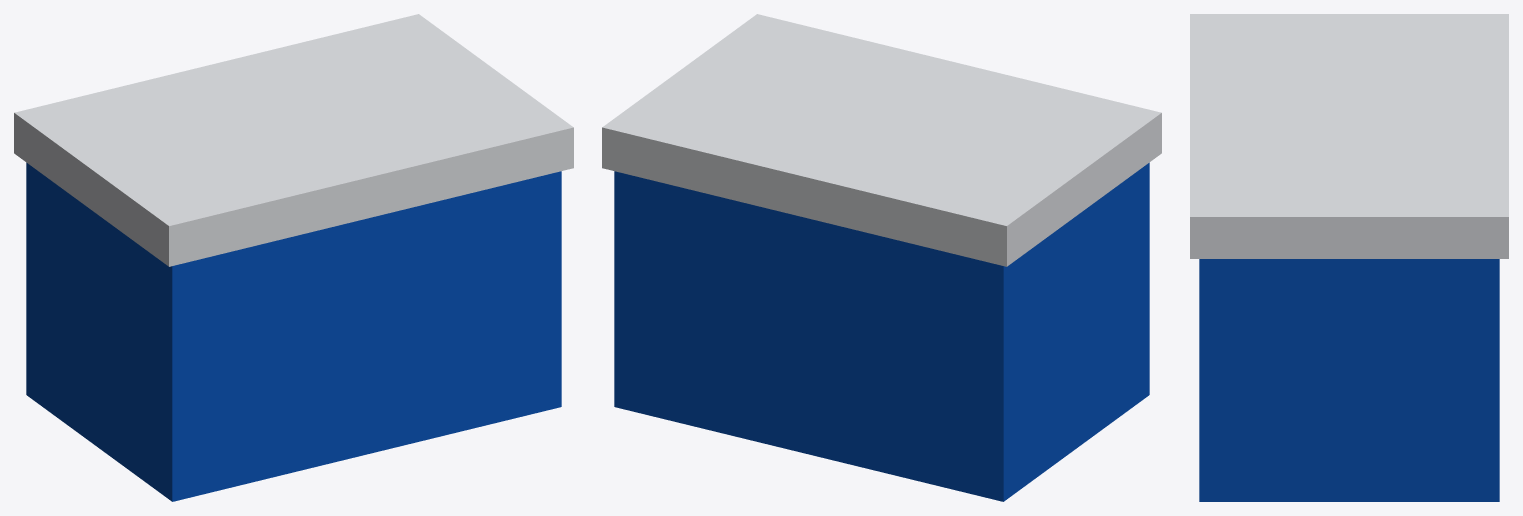
File: shop-cooler.glb
3 views of the same model, side by side, from view 1: azimuth 30°, elevation 25°; view 2: azimuth 150°, elevation 25°; view 3: azimuth 270°, elevation 25° (orthographic). The views are drawn at different scales.
Visible parts, largest first — view 1: CoolerBody, CoolerLid; view 2: CoolerBody, CoolerLid; view 3: CoolerLid, CoolerBody.
Part boxes in pixels (x1=…): CoolerBody: x1=26, y1=162, x2=561, y2=501; CoolerLid: x1=14, y1=14, x2=573, y2=266; CoolerBody: x1=614, y1=162, x2=1149, y2=501; CoolerLid: x1=602, y1=14, x2=1161, y2=266; CoolerLid: x1=1190, y1=14, x2=1508, y2=258; CoolerBody: x1=1199, y1=259, x2=1499, y2=501.
Bounding box in the file's own units: 1.04 × 0.69 × 0.69.
